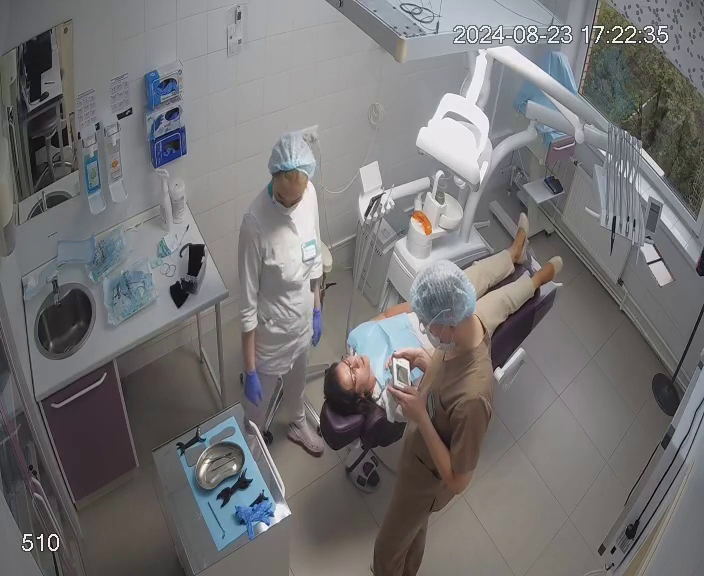Patient: (317, 210, 565, 454)
